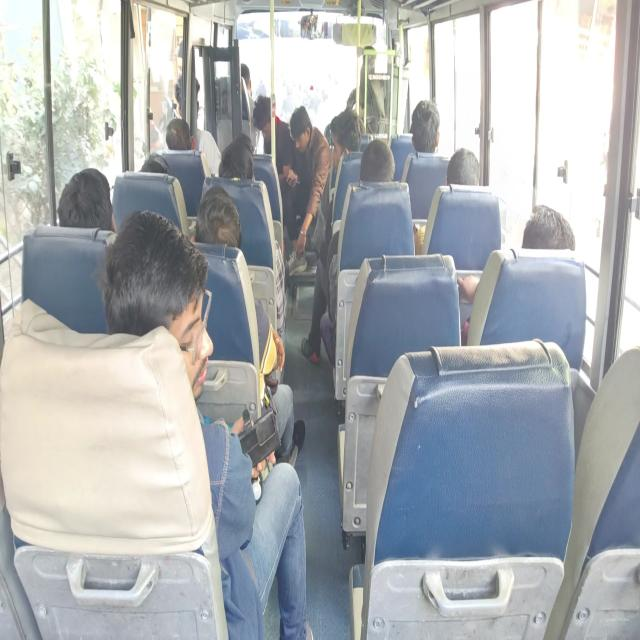person: (116, 214, 202, 356), (197, 182, 242, 257), (523, 203, 579, 263), (67, 168, 115, 233), (328, 115, 372, 172), (254, 99, 296, 158), (132, 144, 179, 190), (214, 139, 258, 188), (358, 140, 392, 192), (413, 113, 441, 168), (447, 144, 477, 190), (294, 109, 320, 158), (172, 124, 202, 166), (175, 85, 200, 124), (238, 61, 255, 98), (234, 128, 254, 148)
